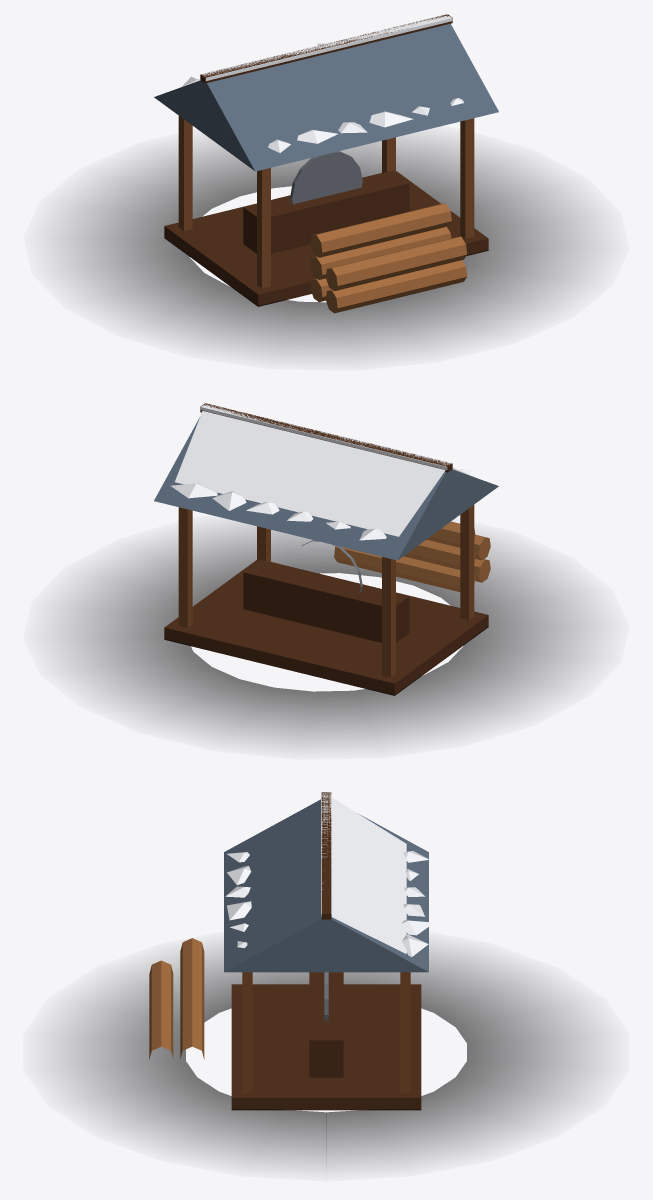
Rendered from sawmill_t1.glb.
3 views of the same model, one above another, from view 1: azimuth 30°, elevation 25°; view 2: azimuth 150°, elevation 25°; view 3: azimuth 270°, elevation 25° (orthographic).
Visible parts, largest first — view 1: sawmill_t1; view 2: sawmill_t1; view 3: sawmill_t1.
Boxes of the visible parts, box(x1,y1,x2,y2) form: sawmill_t1: box(61, 14, 591, 354); sawmill_t1: box(61, 403, 591, 743); sawmill_t1: box(61, 792, 591, 1169).
Size of the model in its own units: 9.2 by 3.22 by 9.11.
